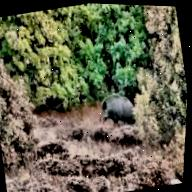boar: (107, 90, 142, 135)
